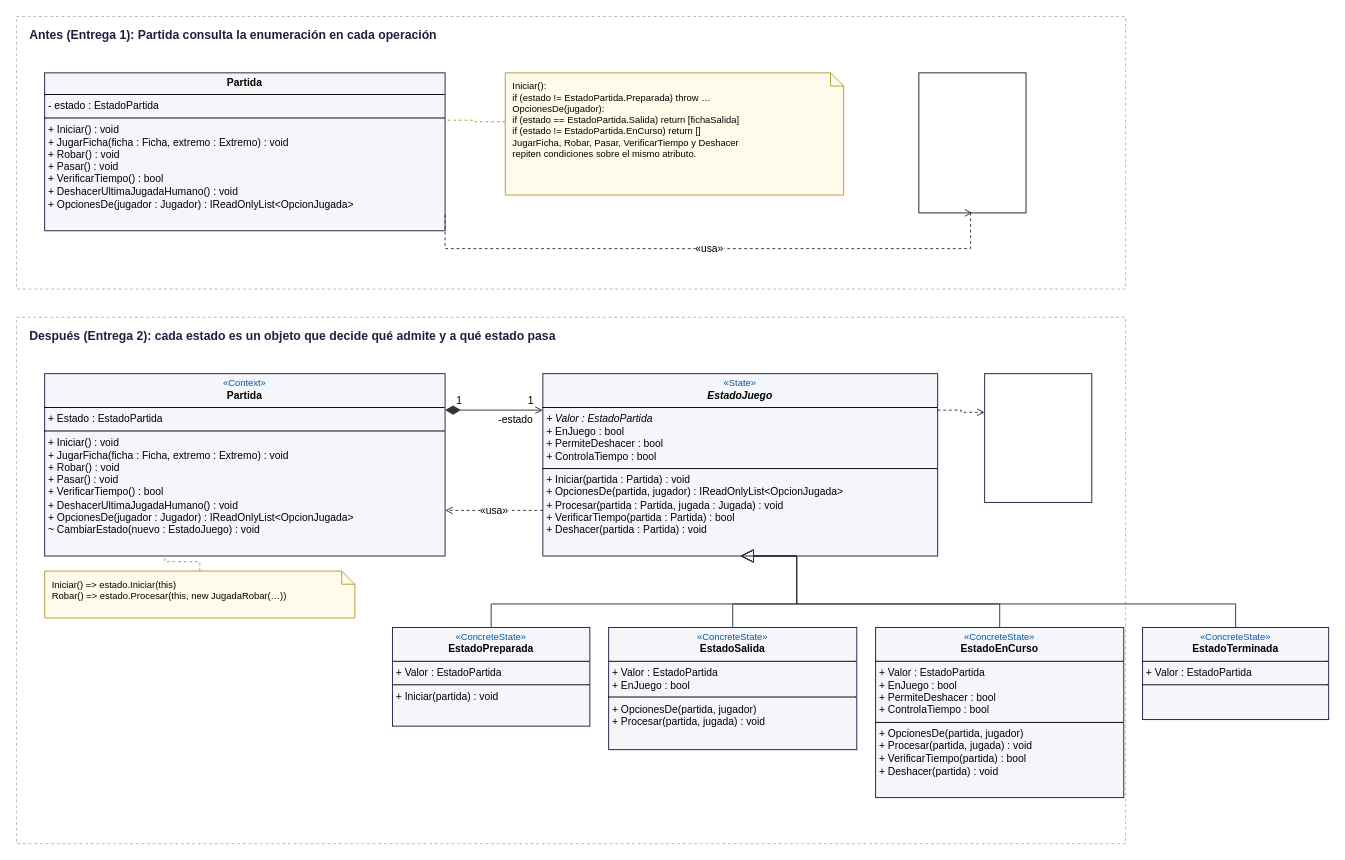
Some shapes in this 1345 by 860 pixel diagram are drawn without their labels. Each missing label, with the centre of its shape:
«enumeration» EstadoPartida Preparada Salida EnCurso Cerrada Terminada: the point at 972,142
«enumeration» EstadoPartida Preparada Salida EnCurso Terminada: the point at 1038,437
